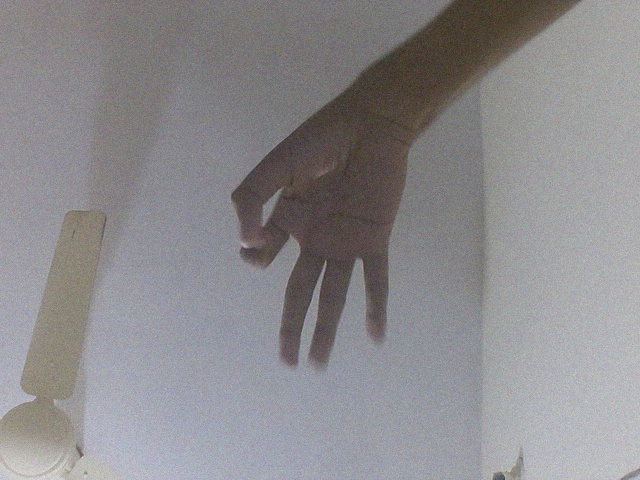hand: (227, 81, 407, 378)
